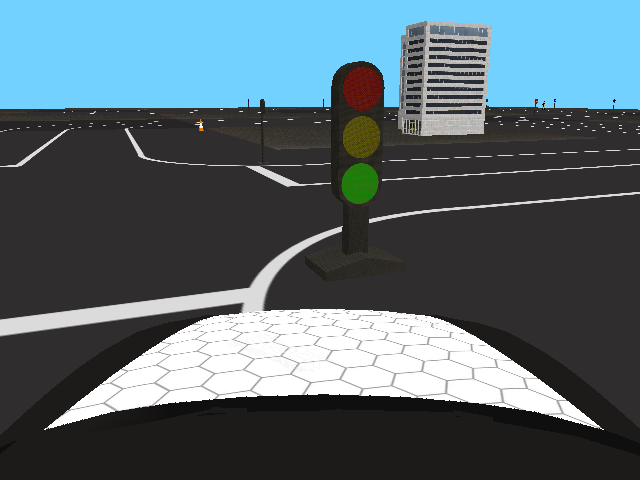yellow_light: (329, 59, 386, 207)
